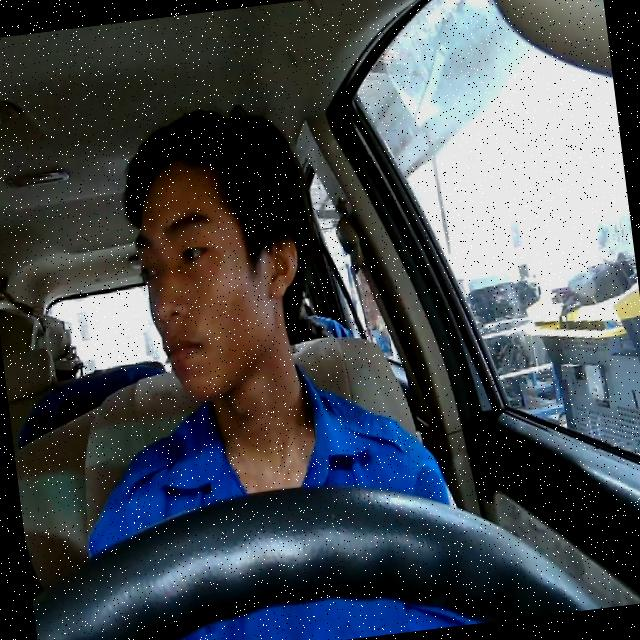seeing_left: (125, 143, 314, 407)
